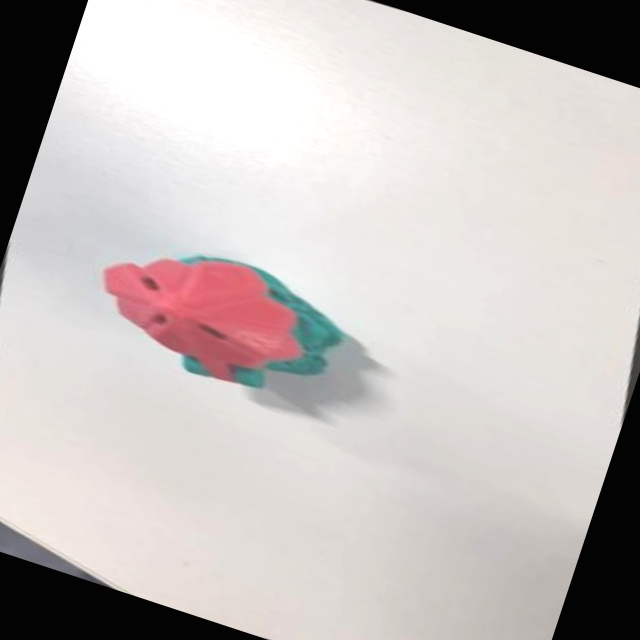House: (73, 208, 387, 425)
